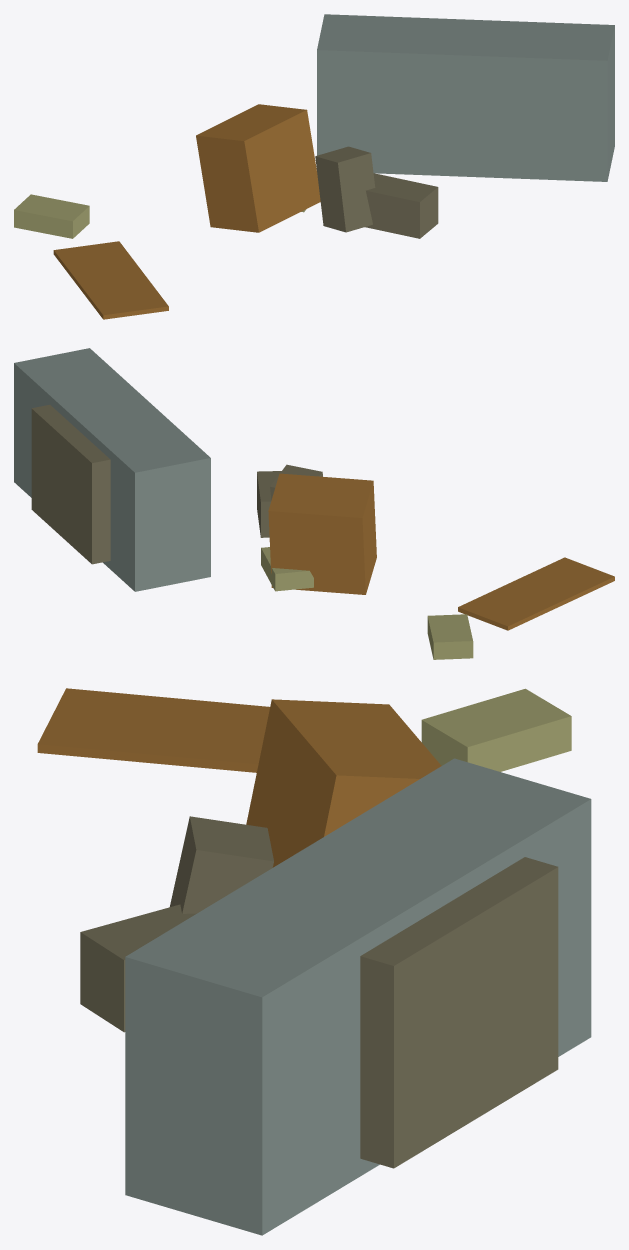
File: SM_BarricadaCivil_v4_Mixta_e2_MuyDanado_LOD1.fbx
3 renders of one model, top to bottom at view 1: azimuth 30°, elevation 25°; view 2: azimuth 150°, elevation 25°; view 3: azimuth 270°, elevation 25°, orthographic. The views are drawn at different scales.
Visible parts, largest first — view 1: SM_barricada_civil_v18_LOD1; view 2: SM_barricada_civil_v18_LOD1; view 3: SM_barricada_civil_v18_LOD1.
Boxes of the visible parts, left/top/right/bottom form: SM_barricada_civil_v18_LOD1: left=14, top=14, right=614, bottom=319; SM_barricada_civil_v18_LOD1: left=14, top=348, right=614, bottom=659; SM_barricada_civil_v18_LOD1: left=37, top=688, right=591, bottom=1235.
Bounding box in the file's own units: 8 × 1.72 × 3.48.
